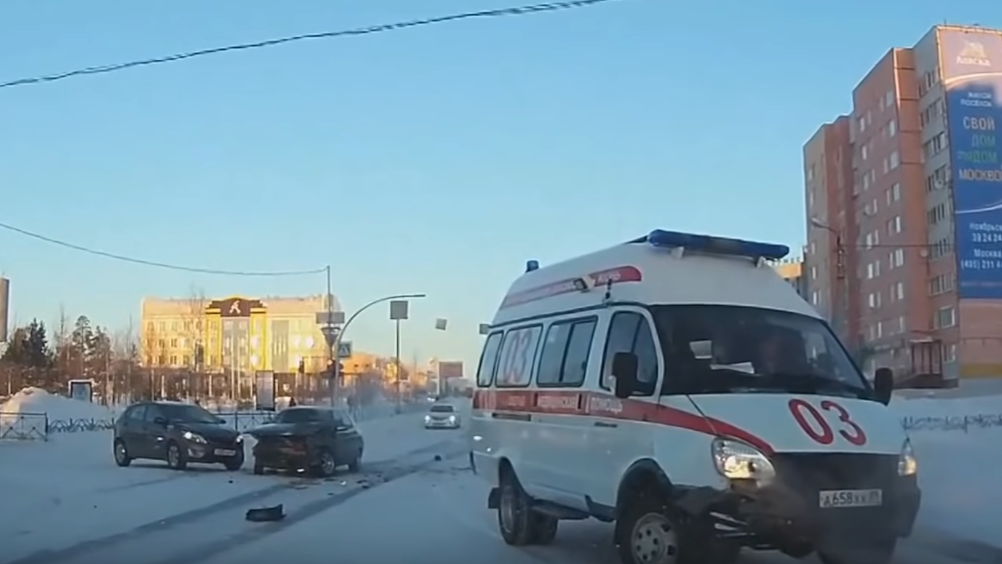ambulance: (471, 226, 923, 561)
non emergency car: (109, 394, 245, 474), (252, 403, 365, 478), (423, 402, 460, 431)
